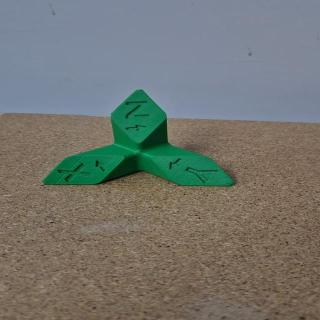eje: (39, 87, 237, 188)
